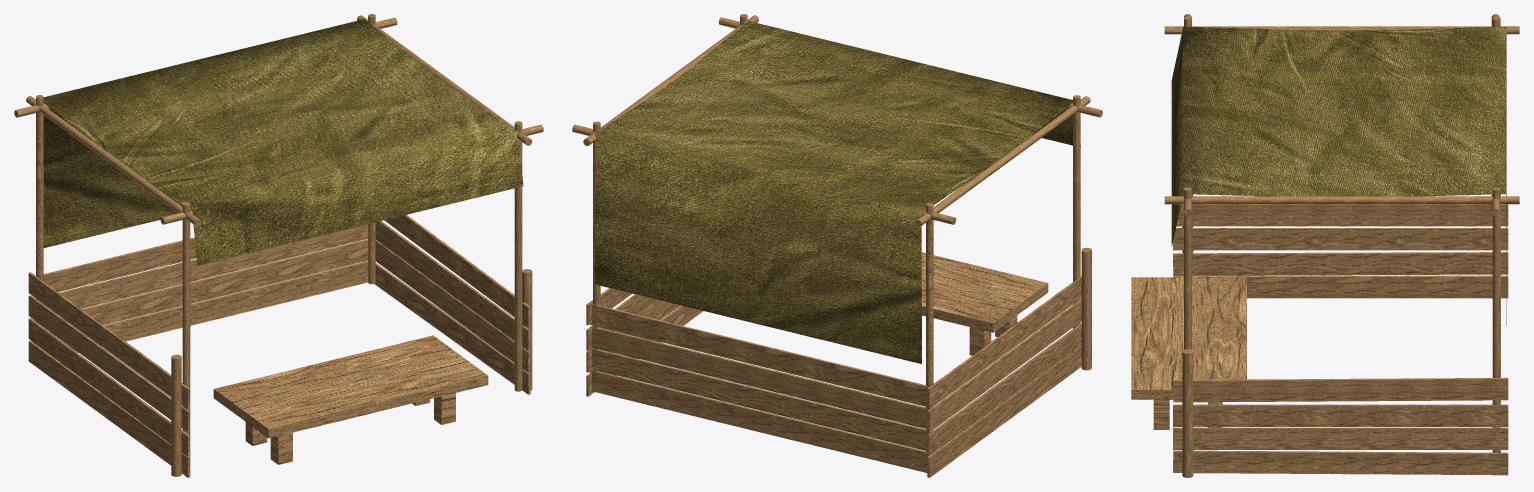
File: estructura_madera1.fbx
3 views of the same model, side by side, from view 1: azimuth 30°, elevation 25°; view 2: azimuth 150°, elevation 25°; view 3: azimuth 270°, elevation 25° (orthographic). The views are drawn at different scales.
Parts seen in each view (by area): view 1: ClothFlat_1, BaseBoards_0, Table_3, PolesFlat_2; view 2: ClothFlat_1, BaseBoards_0, PolesFlat_2, Table_3; view 3: BaseBoards_0, ClothFlat_1, Table_3, PolesFlat_2.
Part boxes in pixels (left/top/right/bottom): ClothFlat_1: left=43, top=19, right=523, bottom=265; BaseBoards_0: left=28, top=215, right=530, bottom=477; Table_3: left=213, top=335, right=488, bottom=464; PolesFlat_2: left=14, top=14, right=543, bottom=476; ClothFlat_1: left=595, top=21, right=1080, bottom=363; BaseBoards_0: left=586, top=276, right=1081, bottom=477; PolesFlat_2: left=572, top=14, right=1102, bottom=452; Table_3: left=921, top=252, right=1048, bottom=355; BaseBoards_0: left=1173, top=204, right=1508, bottom=475; ClothFlat_1: left=1171, top=26, right=1506, bottom=325; Table_3: left=1131, top=277, right=1246, bottom=429; PolesFlat_2: left=1164, top=14, right=1519, bottom=477.
Size of the model in its own units: 238 by 162 by 201.
Materials: 2 (2 with a texture image).
